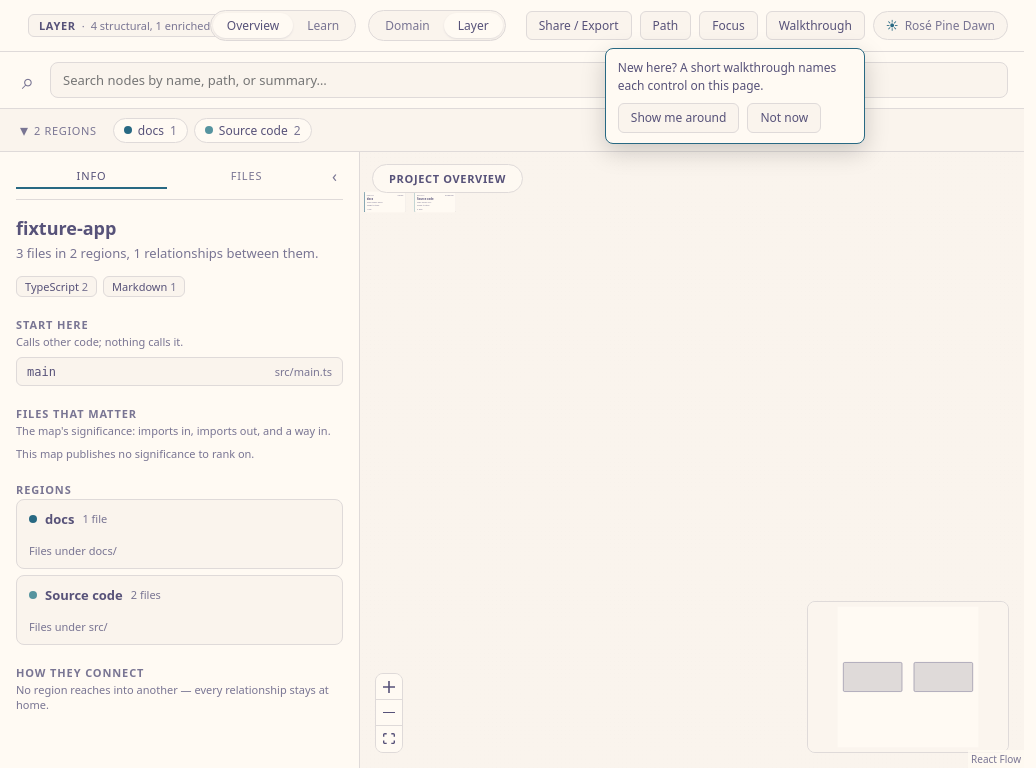
the files tab filters what it shows › keeps the symbols expander working on a filtered row
Click the tab "Files".
click(246, 176)  # box 171,162 -> 322,189
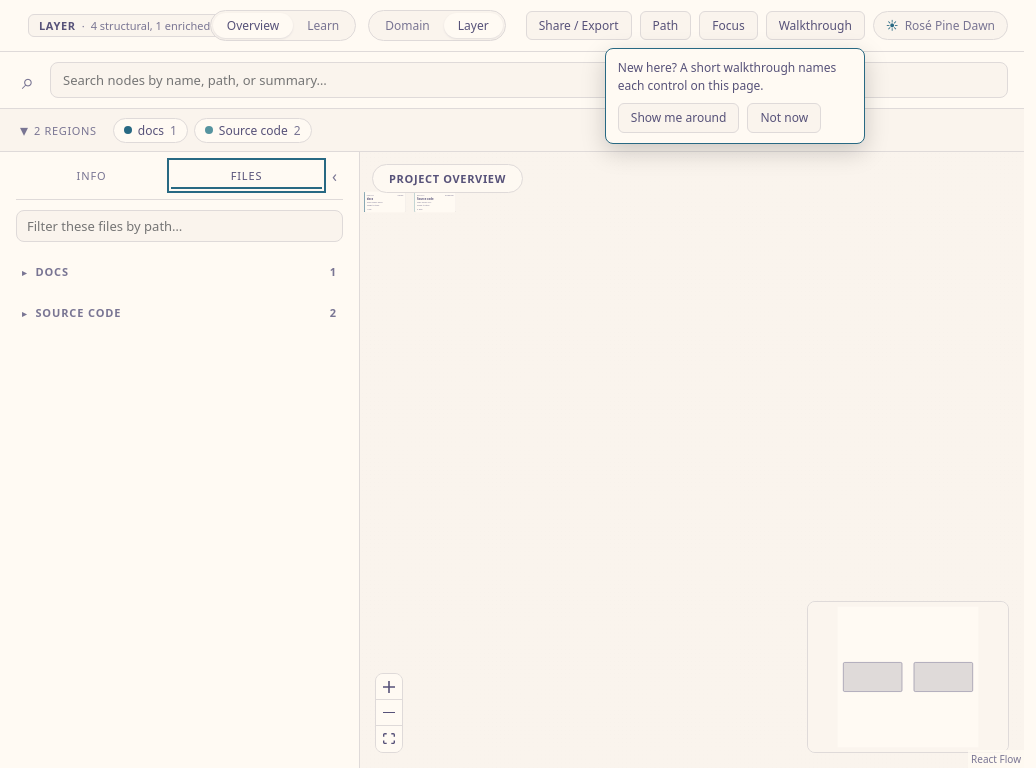
Type "src" into the search field named "Filter files".
click(180, 226); type("src")  # box 16,210 -> 343,242
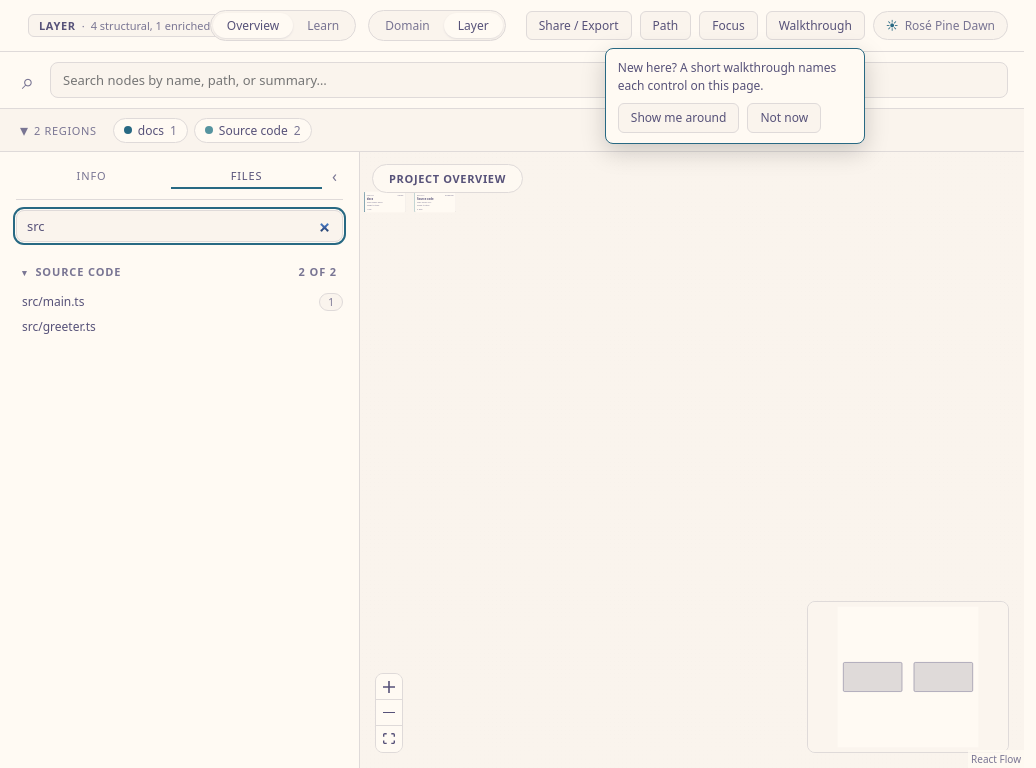
Click the button with class "file-expand".
click(331, 302)  # box 319,292 -> 343,310
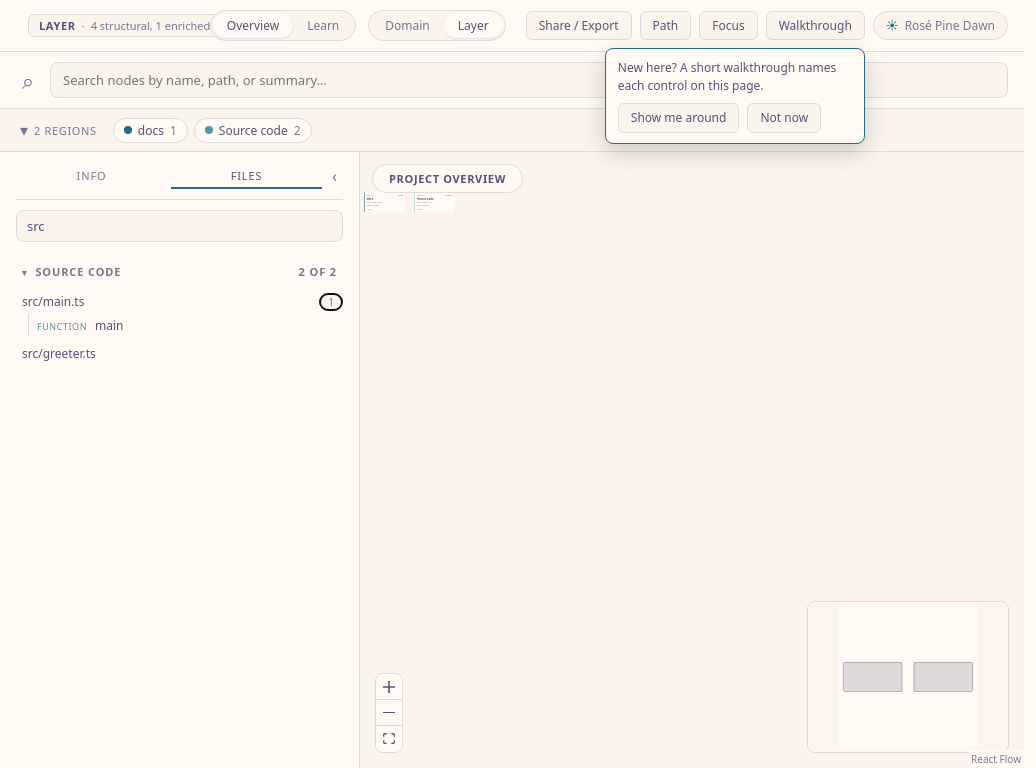
Now the button with class "file-expand" is expanded, box 319,292 -> 343,310
Now the list item "function main" is shown, box 29,314 -> 343,337
